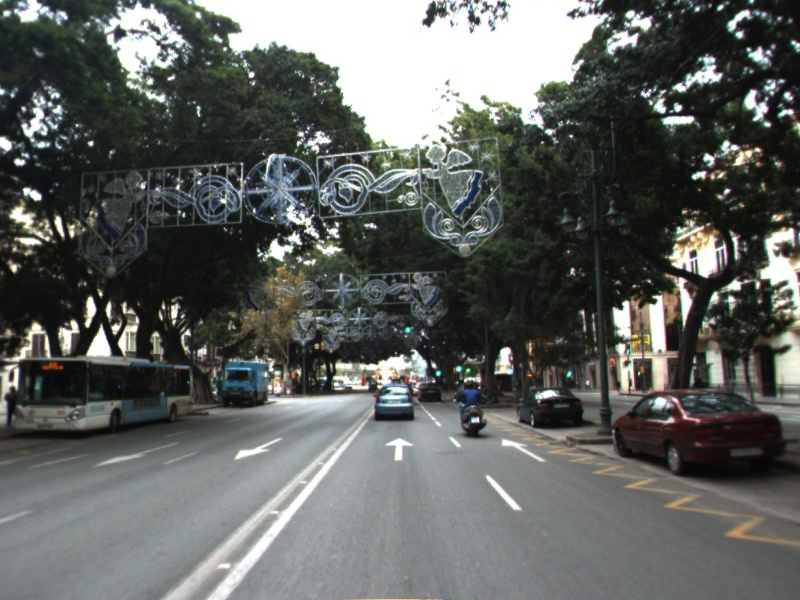STRAIGHT: (500, 437, 549, 464), (383, 436, 416, 461)
